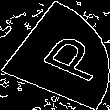P_NW: (13, 26, 97, 84)
